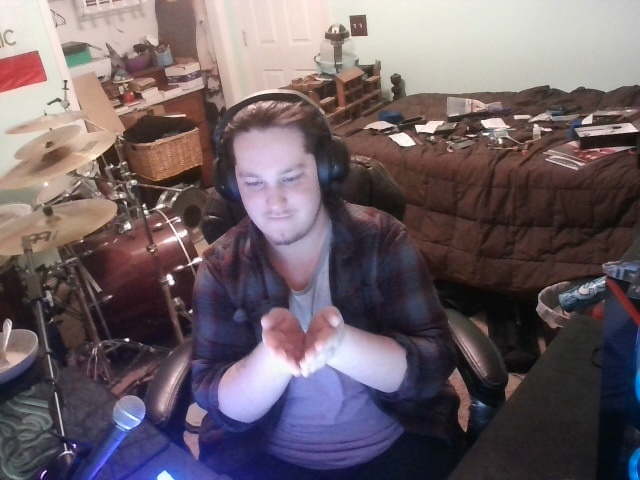book: (246, 304, 362, 387)
